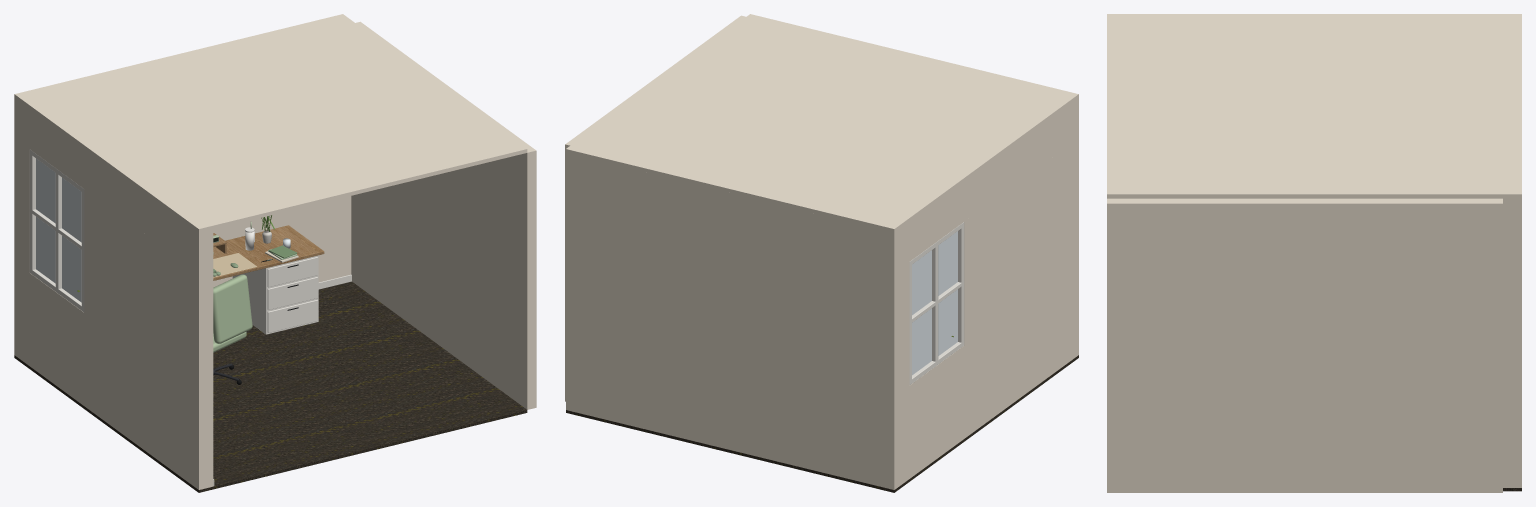
File: room.glb
3 views of the same model, side by side, from view 1: azimuth 30°, elevation 25°; view 2: azimuth 150°, elevation 25°; view 3: azimuth 270°, elevation 25° (orthographic). The views are drawn at different scales.
Parts seen in each view (by area): view 1: Ceiling, Floor, Wall_Right, Wall_Left_Bottom, Wall_Left_Front, Wall_Left_Top, Wall_Back, Drawers, Glass_Window, Chair, Desk_Top, Wall_Left_Back (+3 smaller); view 2: Wall_Back, Ceiling, Wall_Left_Bottom, Wall_Left_Front, Wall_Left_Top, Glass_Window, Floor, Wall_Right, Wall_Left_Back, Win_Frame_R, Win_Frame_M; view 3: Wall_Right, Ceiling, Wall_Back.
Boxes of the visible parts, x1=… form: Ceiling: x1=14, y1=14, x2=527, y2=232; Floor: x1=14, y1=281, x2=527, y2=492; Wall_Right: x1=351, y1=21, x2=536, y2=409; Wall_Left_Bottom: x1=23, y1=268, x2=213, y2=489; Wall_Left_Front: x1=84, y1=189, x2=213, y2=396; Wall_Left_Top: x1=23, y1=104, x2=213, y2=272; Wall_Back: x1=14, y1=98, x2=351, y2=360; Drawers: x1=232, y1=255, x2=318, y2=334; Glass_Window: x1=36, y1=158, x2=81, y2=302; Chair: x1=213, y1=274, x2=252, y2=384; Desk_Top: x1=213, y1=225, x2=324, y2=280; Wall_Left_Back: x1=23, y1=144, x2=29, y2=272; Wall_Back: x1=566, y1=153, x2=902, y2=489; Ceiling: x1=566, y1=14, x2=1078, y2=232; Wall_Left_Bottom: x1=902, y1=262, x2=1078, y2=483; Wall_Left_Front: x1=964, y1=138, x2=1078, y2=345; Wall_Left_Top: x1=902, y1=98, x2=1078, y2=266; Glass_Window: x1=912, y1=231, x2=957, y2=375; Floor: x1=566, y1=355, x2=1078, y2=492; Wall_Right: x1=565, y1=15, x2=745, y2=401; Wall_Left_Back: x1=902, y1=262, x2=909, y2=390; Win_Frame_R: x1=958, y1=226, x2=964, y2=342; Win_Frame_M: x1=932, y1=246, x2=938, y2=361; Wall_Right: x1=1107, y1=198, x2=1502, y2=492; Ceiling: x1=1107, y1=14, x2=1521, y2=198; Wall_Back: x1=1503, y1=198, x2=1521, y2=487.
Bounding box in the file's own units: 3.71 × 2.77 × 3.51.
Materials: 49 (16 with a texture image).
